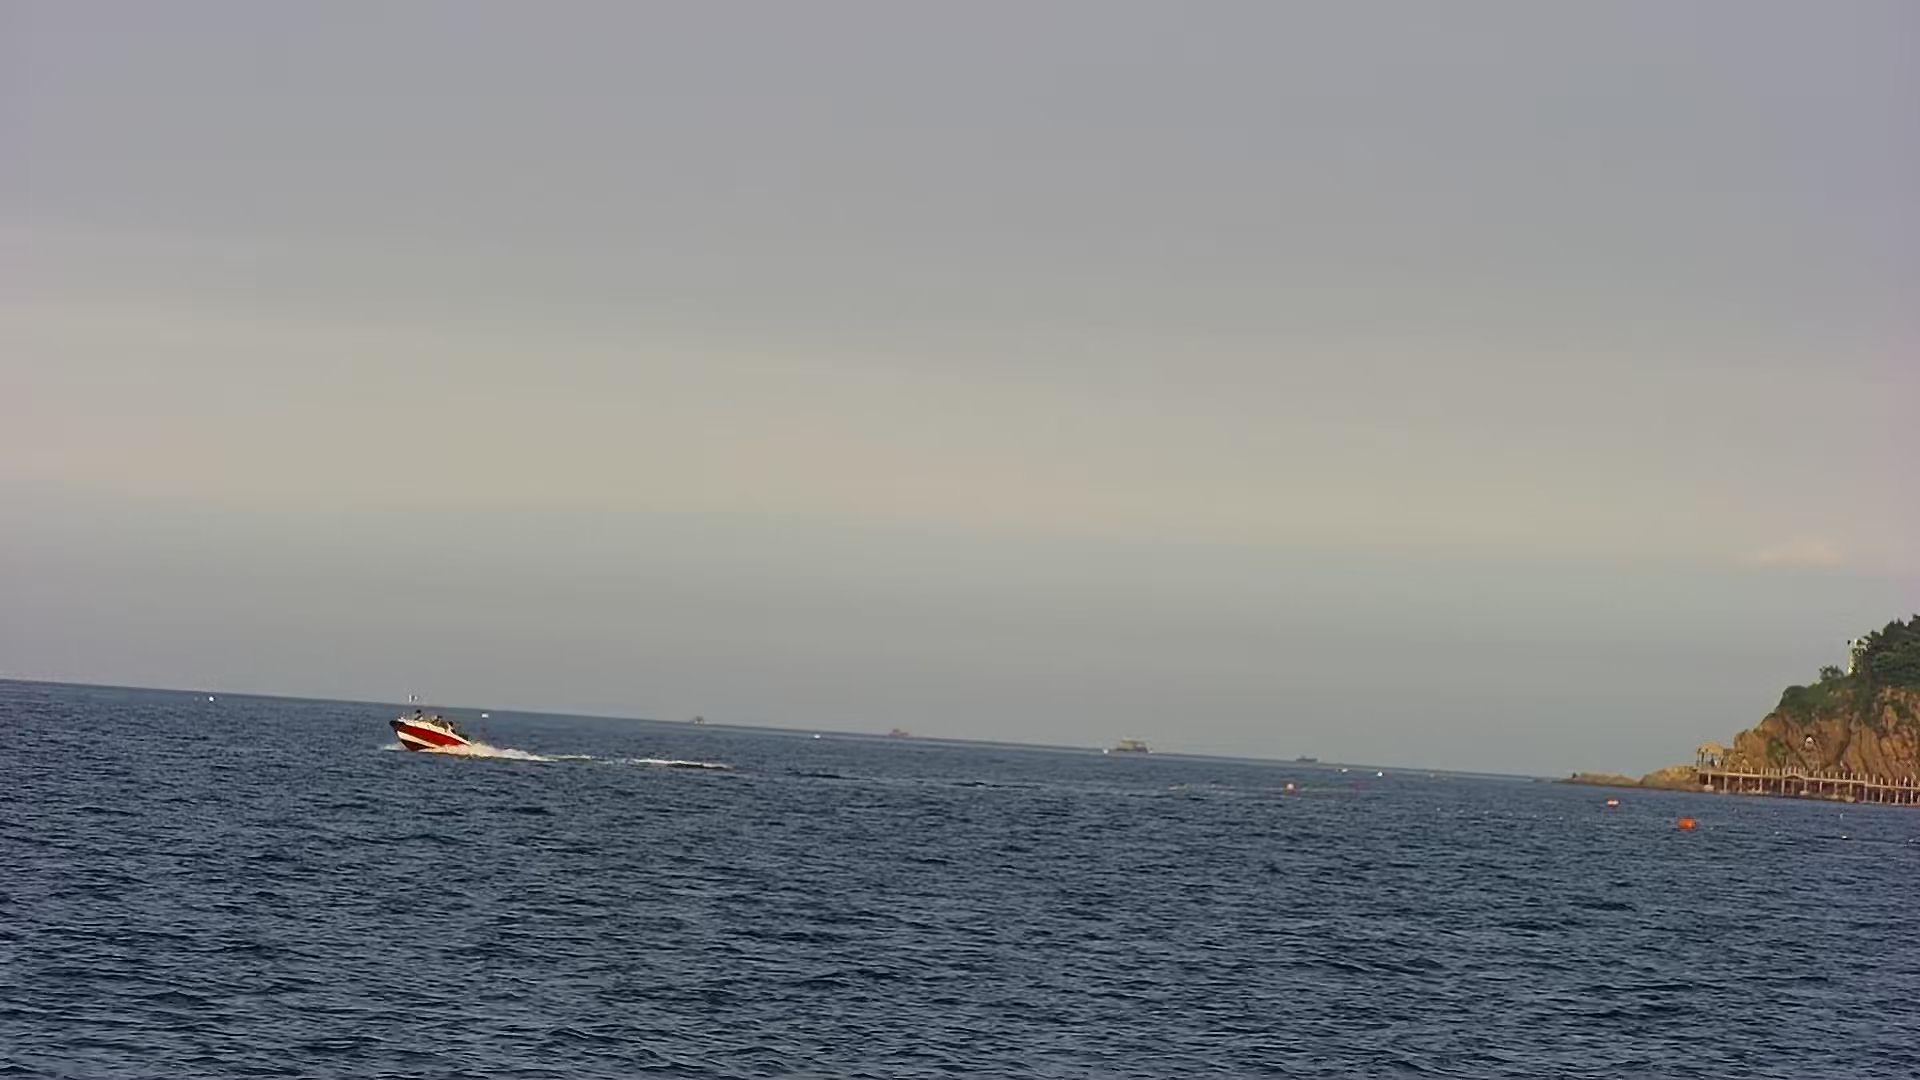ball: (1665, 811, 1704, 833)
boat: (385, 688, 512, 760)
ship: (1098, 723, 1158, 765)
